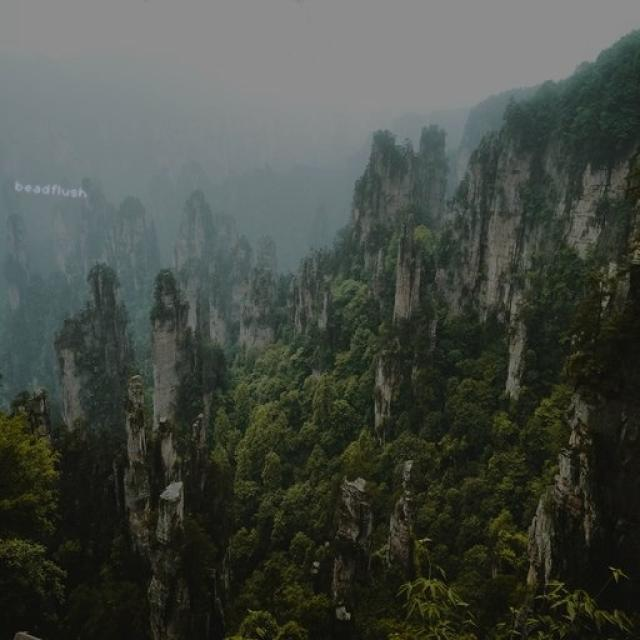watermark: (9, 179, 96, 199)
